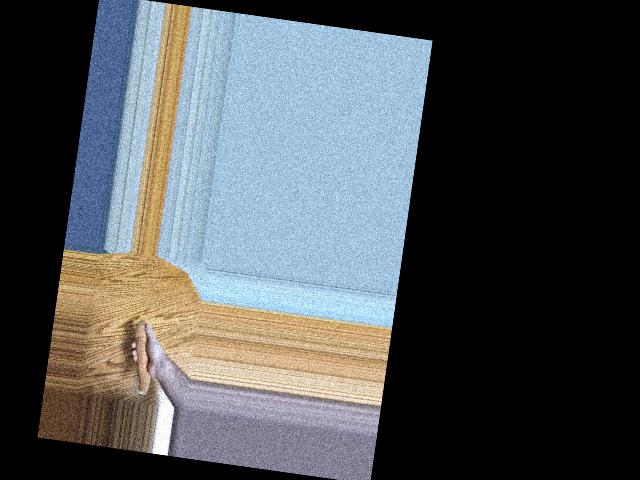sweet_potato: (124, 319, 161, 399)
